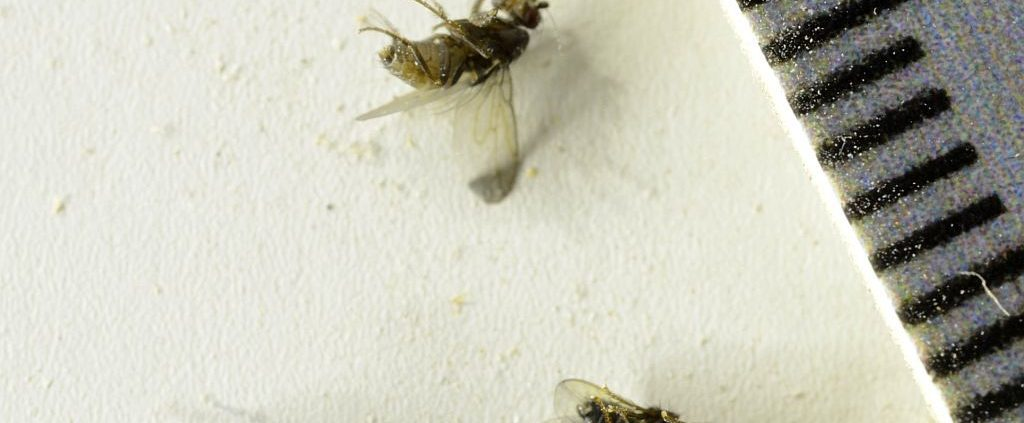phorid fly: (320, 1, 580, 215)
